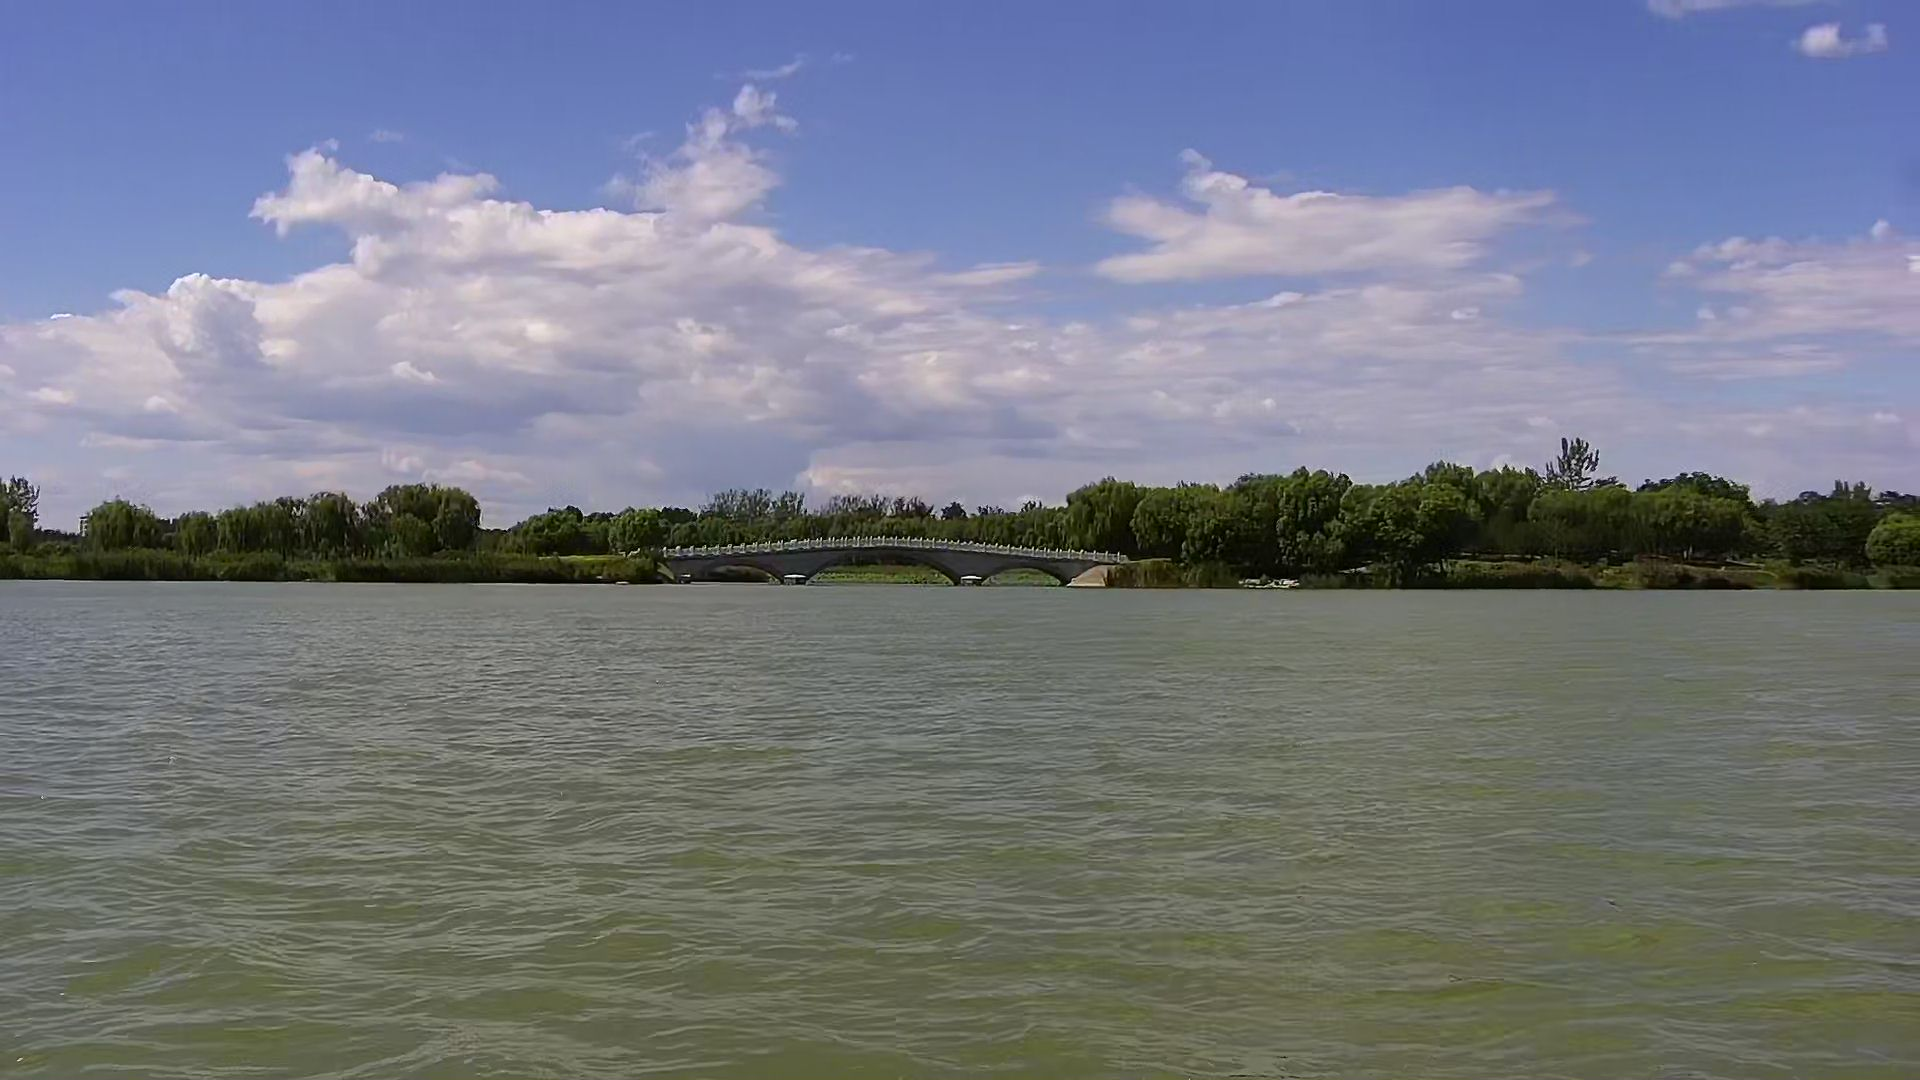bridge: (644, 524, 1109, 585)
